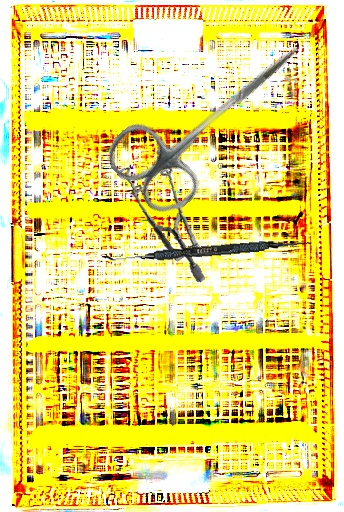Iris Scissors: (98, 7, 329, 226)
Spatula Surgical: (101, 234, 312, 268)
Speculum: (106, 141, 221, 283)
